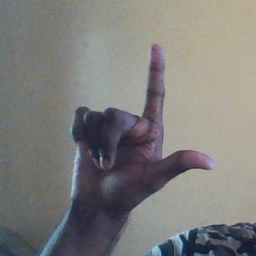L: (68, 44, 216, 209)
